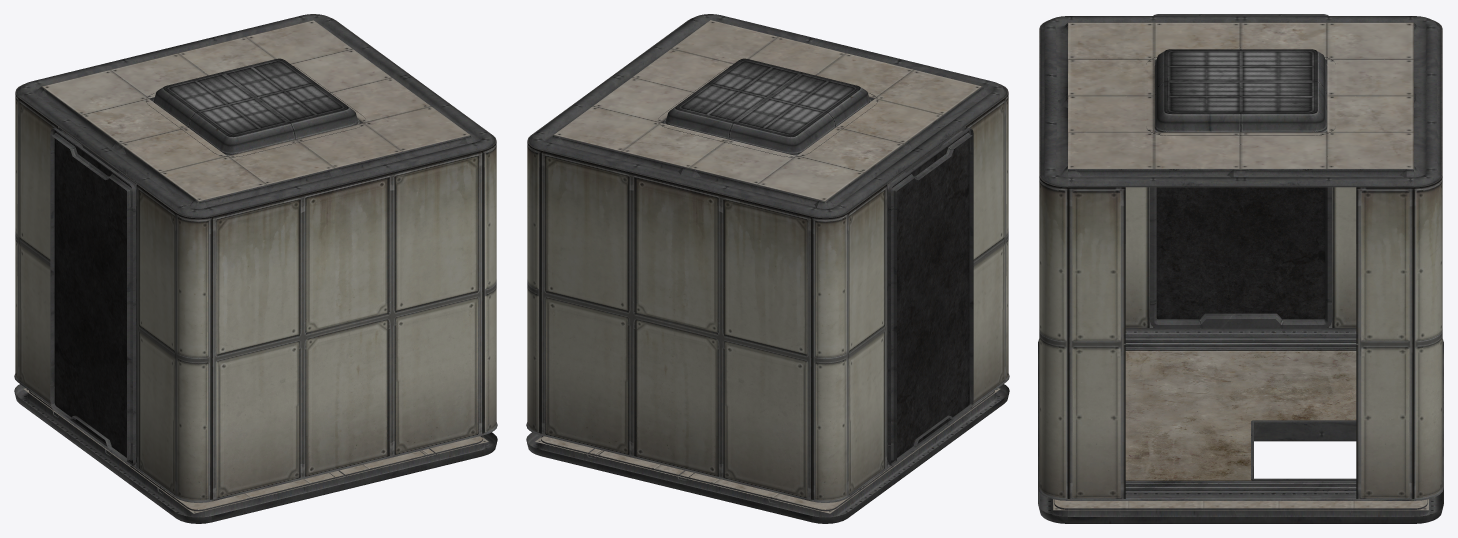
File: 02_06_elevator_with_hatchhole.dae
3 renders of one model, left to right at view 1: azimuth 30°, elevation 25°; view 2: azimuth 150°, elevation 25°; view 3: azimuth 270°, elevation 25°, orthographic. The views are drawn at different scales.
Visible parts, largest first — view 1: polySurface103, glass; view 2: polySurface103, glass; view 3: polySurface103, glass.
Boxes of the visible parts, x1,y1,x2,y2 form: polySurface103: (14, 14, 497, 523); glass: (54, 131, 132, 463); polySurface103: (526, 14, 1009, 523); glass: (891, 131, 969, 463); polySurface103: (1038, 14, 1443, 523); glass: (1156, 187, 1325, 319).
Bounding box in the file's own units: 3.6 × 3.42 × 3.52.
